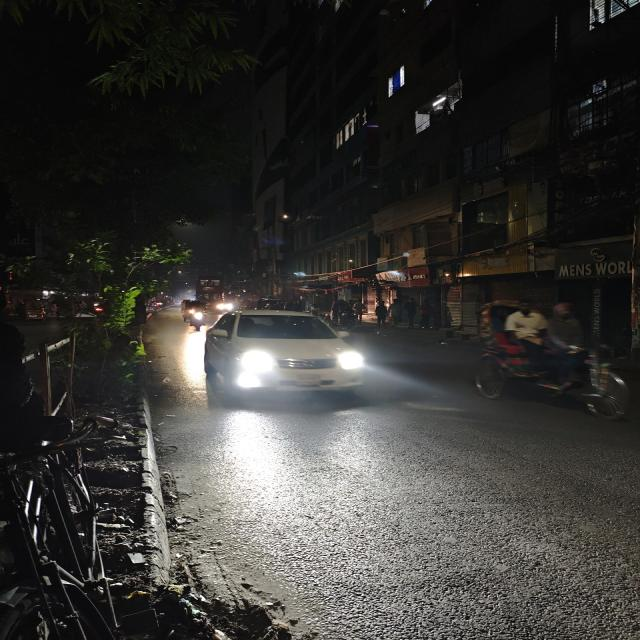bus: (193, 278, 228, 305)
car: (197, 303, 367, 415)
motorcycle: (185, 303, 206, 334)
rickshaw: (466, 294, 632, 425), (328, 297, 358, 332)
